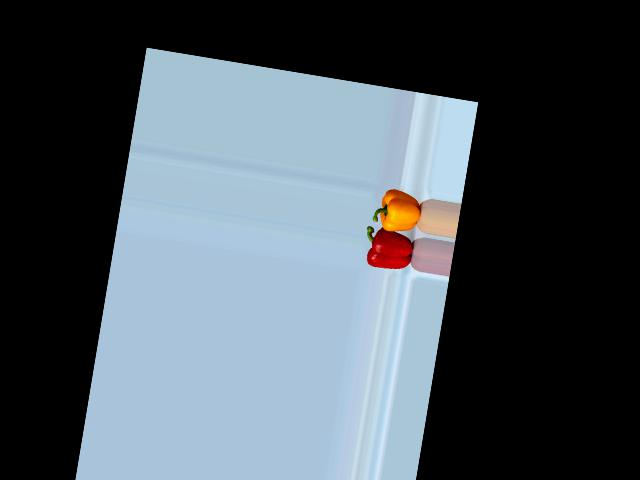bell_pepper: (362, 224, 420, 277)
